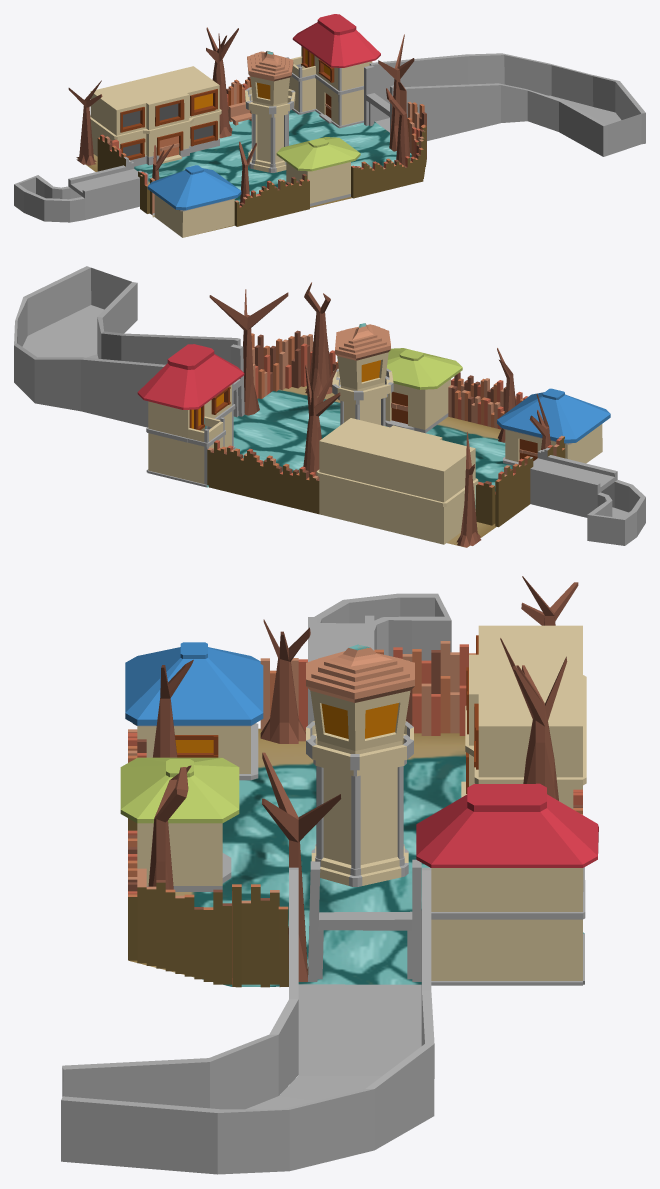
The model's file is Map kansei.fbx.
The picture shows the model from 3 angles, top to bottom: view 1: azimuth 30°, elevation 25°; view 2: azimuth 150°, elevation 25°; view 3: azimuth 270°, elevation 25°; orthographic projection. The views are drawn at different scales.
Visible parts, largest first — view 1: Grid; view 2: Grid; view 3: Grid.
Part boxes in pixels (box(x1,y1,x2,y2)): Grid: box(14, 14, 645, 237); Grid: box(14, 266, 645, 547); Grid: box(61, 576, 598, 1174).
Size of the model in its own units: 822 by 162 by 347.
